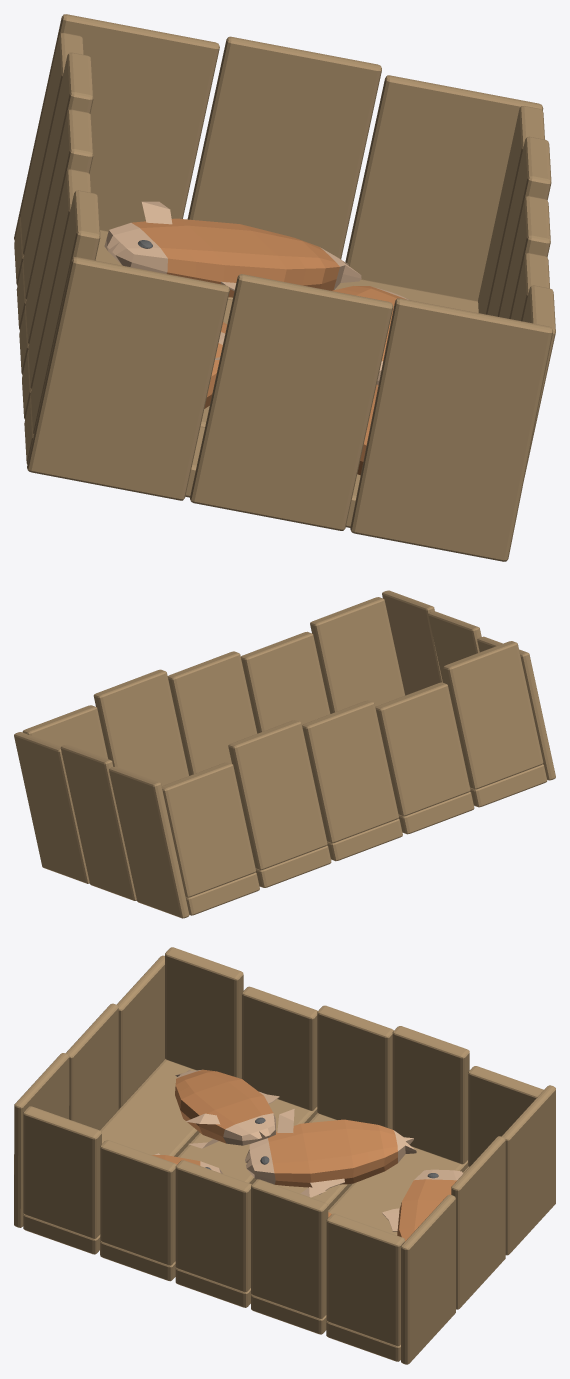
The model's file is OrangeFishCase.fbx.
3 views of the same model, one above another, from view 1: azimuth 30°, elevation 25°; view 2: azimuth 150°, elevation 25°; view 3: azimuth 270°, elevation 25° (orthographic). The views are drawn at different scales.
Parts seen in each view (by area): view 1: Plane.038, Plane.009, Plane.041; view 2: Plane.038; view 3: Plane.038, Plane.044, Plane.045, Plane.009.
Boxes of the visible parts, x1,y1,x2,y2 form: Plane.038: [14, 14, 555, 561]; Plane.009: [104, 201, 361, 297]; Plane.041: [332, 286, 410, 384]; Plane.038: [14, 590, 555, 918]; Plane.038: [14, 947, 555, 1364]; Plane.044: [245, 1109, 416, 1194]; Plane.045: [175, 1069, 279, 1148]; Plane.009: [382, 1169, 463, 1241].
Bounding box in the file's own units: 267 × 138 × 286.
